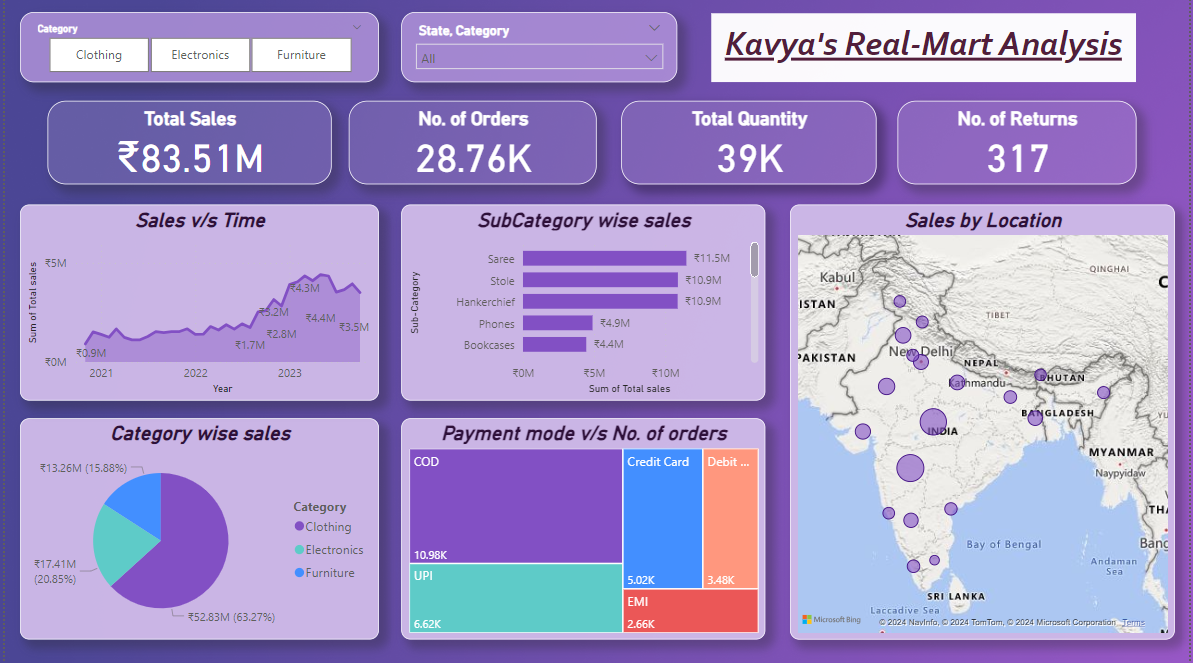

This screenshot's page, from the dashboard's own definition file:
{"tool":"powerbi","page":{"name":"Page 1","canvas":[1280,720],"ordinal":0},"visuals":[{"type":"pieChart","title":"Category wise sales","fields":{"Category":["Dataset.Category"],"Y":["Dataset.Total sales"]},"box":[16.2,455.4,387.8,239.2],"z":0},{"type":"map","title":"Sales by Location","fields":{"Category":["Dataset.State"],"Size":["Dataset.Total sales"]},"box":[848.6,224.3,416.2,470.3],"z":1000},{"type":"stackedAreaChart","title":"Sales v/s Time","fields":{"Y":["Dataset.Total sales"],"Category":["Dataset.Date.Variation.Date Hierarchy.Year","Dataset.Date.Variation.Date Hierarchy.Month"]},"box":[16.2,224.3,387.8,212.2],"z":2000},{"type":"clusteredBarChart","title":"SubCategory wise sales","fields":{"Category":["Dataset.Sub-Category"],"Y":["Dataset.Total sales"]},"box":[428.4,224.3,393.2,212.2],"z":3000},{"type":"treemap","title":"Payment mode v/s No. of orders","fields":{"Group":["Dataset.PaymentMode"],"Values":["Dataset.Order ID"]},"box":[428.4,455.4,393.2,239.2],"z":4000},{"type":"slicer","fields":{"Values":["Dataset.Category"]},"box":[16.2,16.2,387.8,75.7],"z":5000},{"type":"slicer","fields":{"Values":["Dataset.State","Dataset.Category"]},"box":[428.4,16.2,298.6,75.7],"z":6000},{"type":"textbox","box":[763.4,16.9,459.2,74.6],"z":7000},{"type":"card","title":"Total Sales","fields":{"Values":["Dataset.Total sales"]},"box":[45.8,112.5,306.9,90.3],"z":8000},{"type":"card","title":"No. of Orders","fields":{"Values":["Dataset.Order ID"]},"box":[372.2,112.5,268.1,90.3],"z":9000},{"type":"card","title":"Total Quantity","fields":{"Values":["Dataset.Net quantity"]},"box":[666.7,112.5,276.4,90.3],"z":10000},{"type":"card","title":"No. of Returns","fields":{"Values":["Dataset.Returns"]},"box":[965.3,112.5,258.3,90.3],"z":11000}]}

Visuals, with their boxes in screenshot pixels (x1, y1, x2, y2), scaled from the page's 1280x720 canvas onto the 1193x663 screenshot:
"Category wise sales" pieChart: [15,419,377,640]
"Sales by Location" map: [791,207,1179,640]
"Sales v/s Time" stackedAreaChart: [15,207,377,402]
"SubCategory wise sales" clusteredBarChart: [399,207,766,402]
"Payment mode v/s No. of orders" treemap: [399,419,766,640]
slicer - Dataset.Category: [15,15,377,85]
slicer - Dataset.State x Dataset.Category: [399,15,678,85]
textbox: [712,16,1140,84]
"Total Sales" card: [43,104,329,187]
"No. of Orders" card: [347,104,597,187]
"Total Quantity" card: [621,104,879,187]
"No. of Returns" card: [900,104,1140,187]
